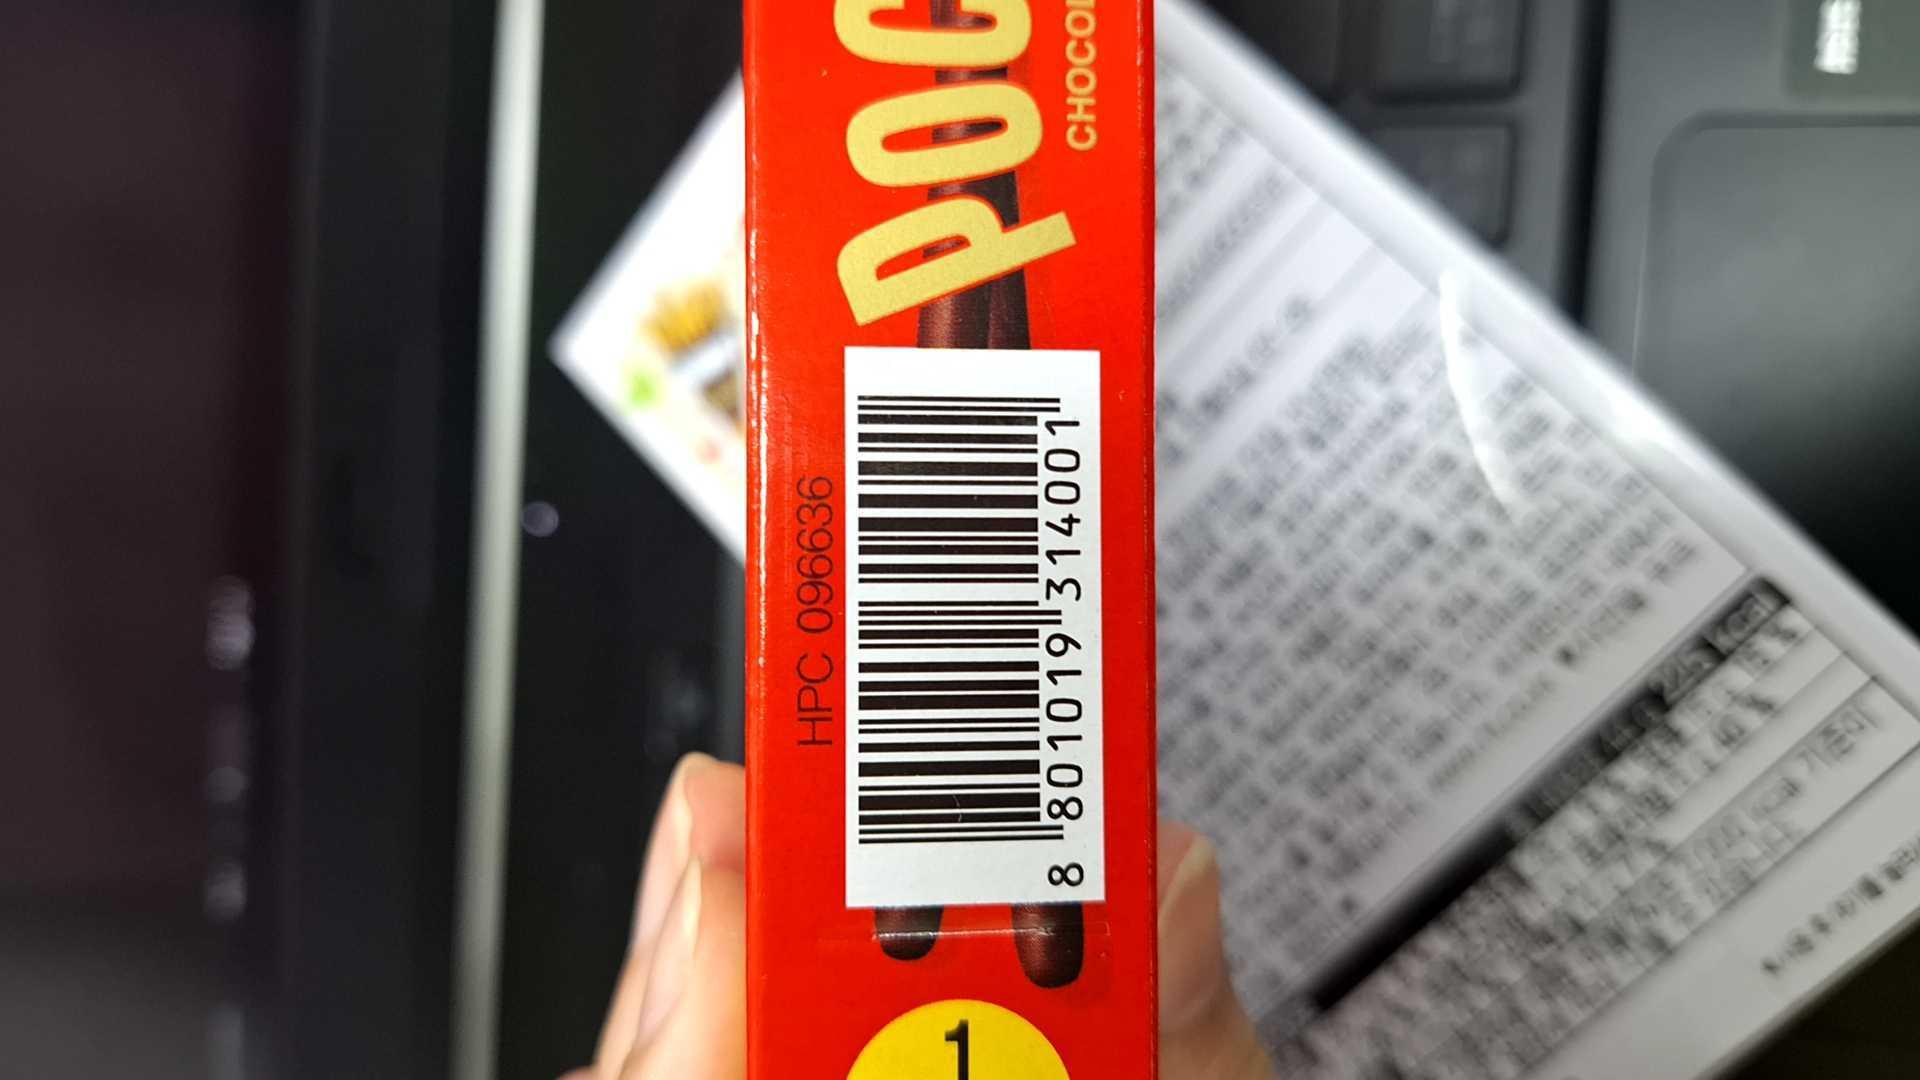redpocky-1800-2025-7-23: (848, 365, 1095, 890)
